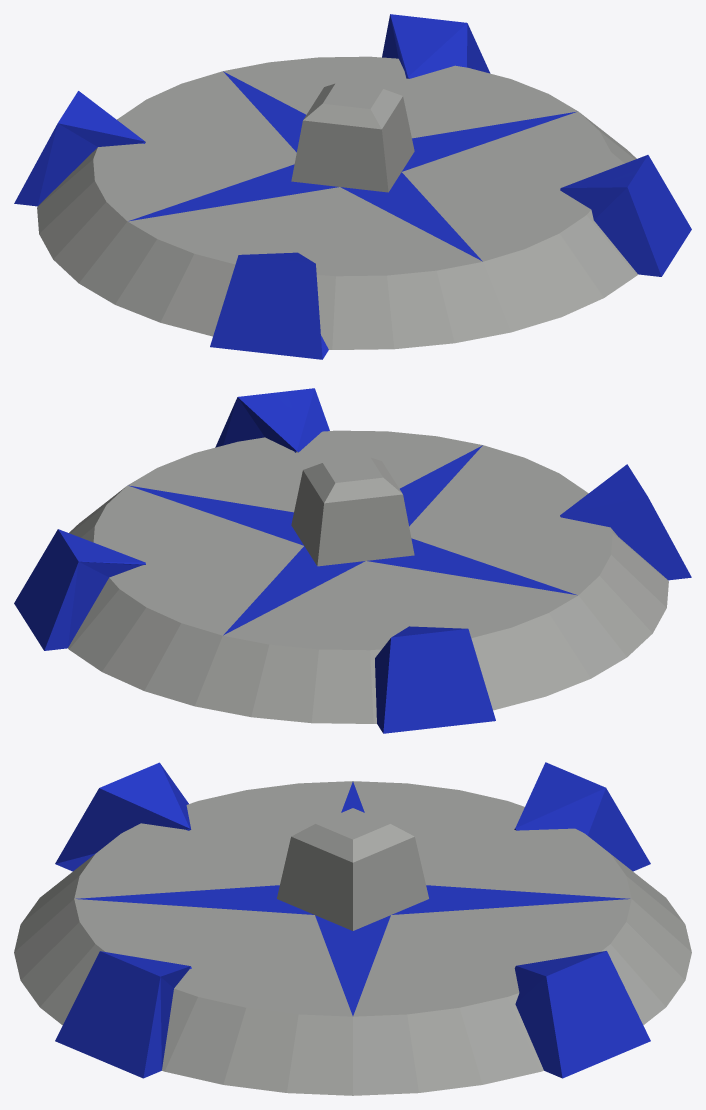
The model's file is Beyblade_Base_Water.fbx.
3 renders of one model, top to bottom at view 1: azimuth 30°, elevation 25°; view 2: azimuth 150°, elevation 25°; view 3: azimuth 270°, elevation 25°, orthographic. The views are drawn at different scales.
Parts seen in each view (by area): view 1: Circle; view 2: Circle; view 3: Circle.
Boxes of the visible parts, bbox=[...] form: Circle: bbox=[14, 14, 691, 359]; Circle: bbox=[14, 388, 691, 733]; Circle: bbox=[14, 762, 691, 1095].
Size of the model in its own units: 200 by 41.92 by 200.
Materials: 1 (1 with a texture image).
